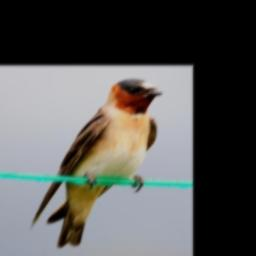Swallow: (30, 78, 163, 248)
